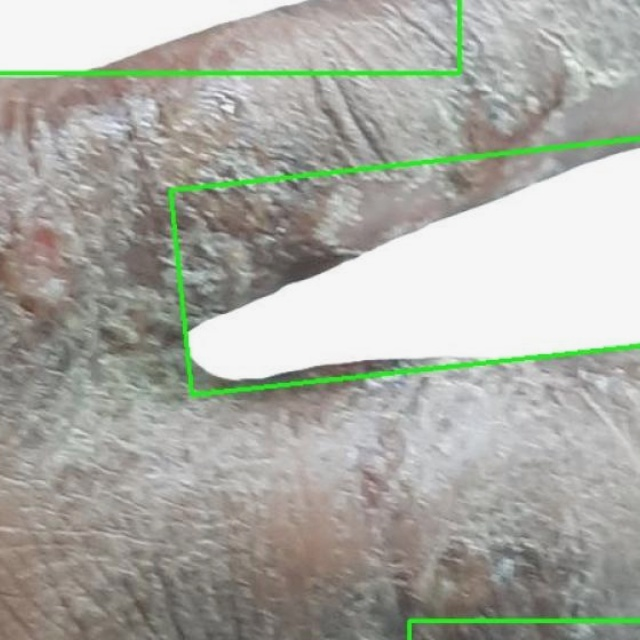Eczema: (168, 136, 639, 395)
